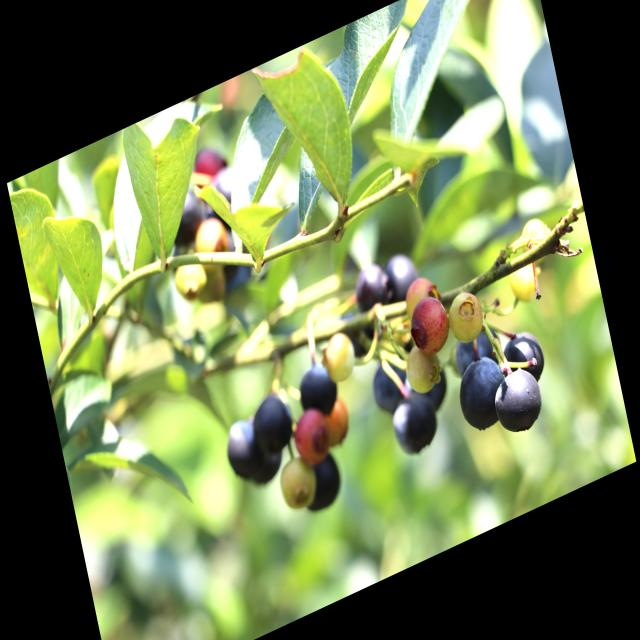blueberry: (488, 357, 550, 445), (452, 349, 511, 439), (388, 384, 443, 467), (496, 320, 550, 396), (295, 445, 348, 520), (218, 416, 266, 492), (248, 385, 297, 459), (294, 356, 342, 424), (449, 318, 502, 379), (366, 357, 413, 421), (349, 252, 395, 316), (383, 244, 420, 305)
blueberry-halfripe: (404, 288, 454, 365), (289, 399, 336, 467), (321, 391, 353, 448)
blueberry-unripe: (274, 447, 322, 518), (399, 336, 444, 398), (443, 286, 488, 348), (191, 208, 230, 270), (319, 326, 357, 388), (505, 253, 543, 309), (171, 249, 209, 303)
